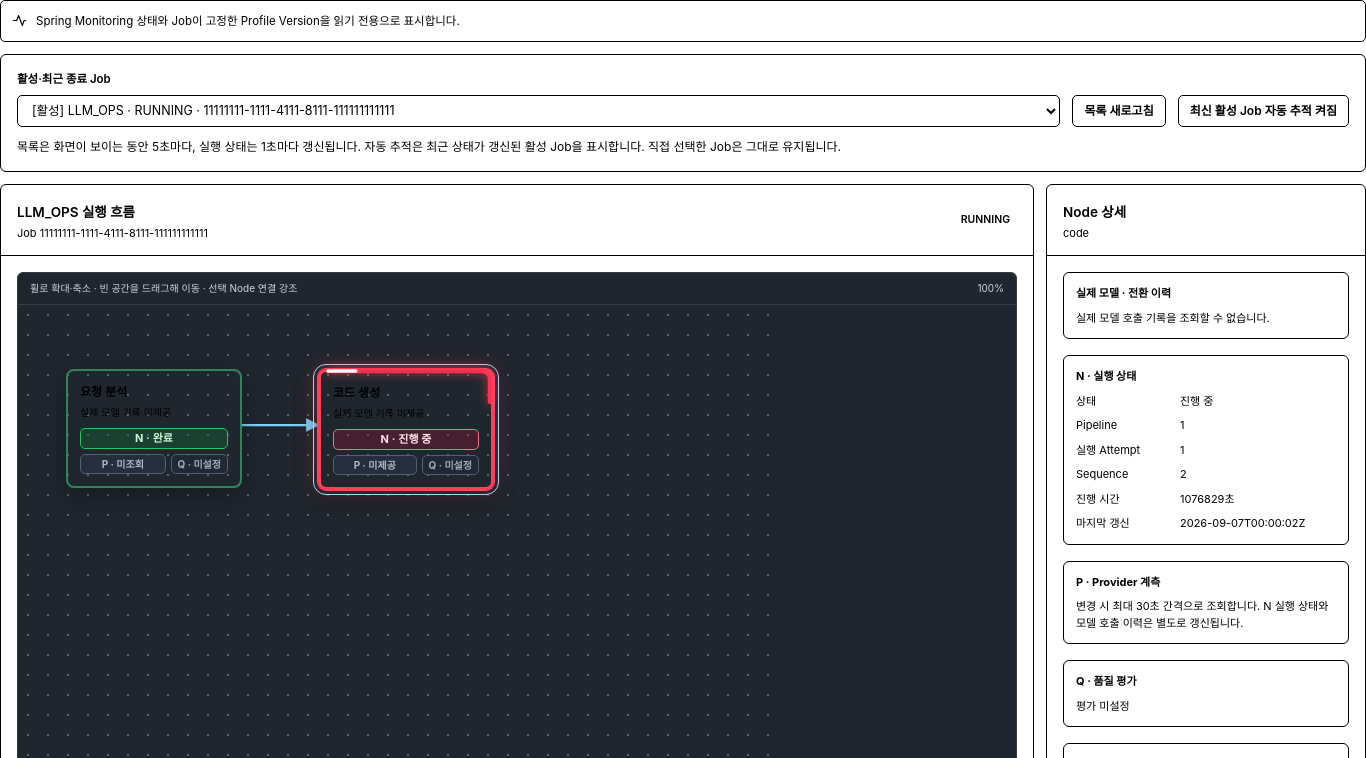
Scenario: manual list refresh preserves selection and layout and recovers from an error
Select "[활성] LLM_OPS · RUNNING · 11111111-1111-4111-8111-111111111111" in the dropdown named "실행 모니터링 Job" at (539, 111), box top-left (17, 95), bottom-right (1060, 127)
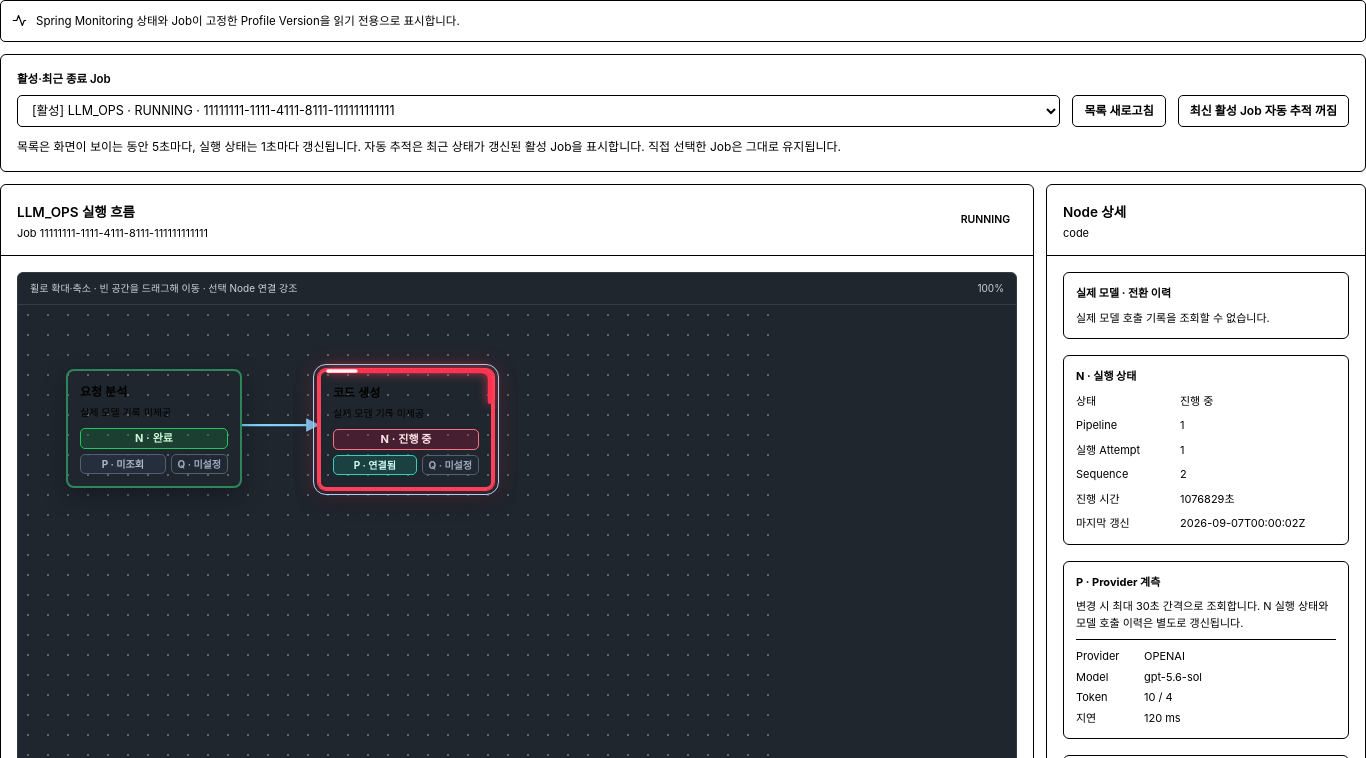
Click the button with aria-label "analyze Node" at (154, 429), box top-left (66, 369), bottom-right (242, 488)
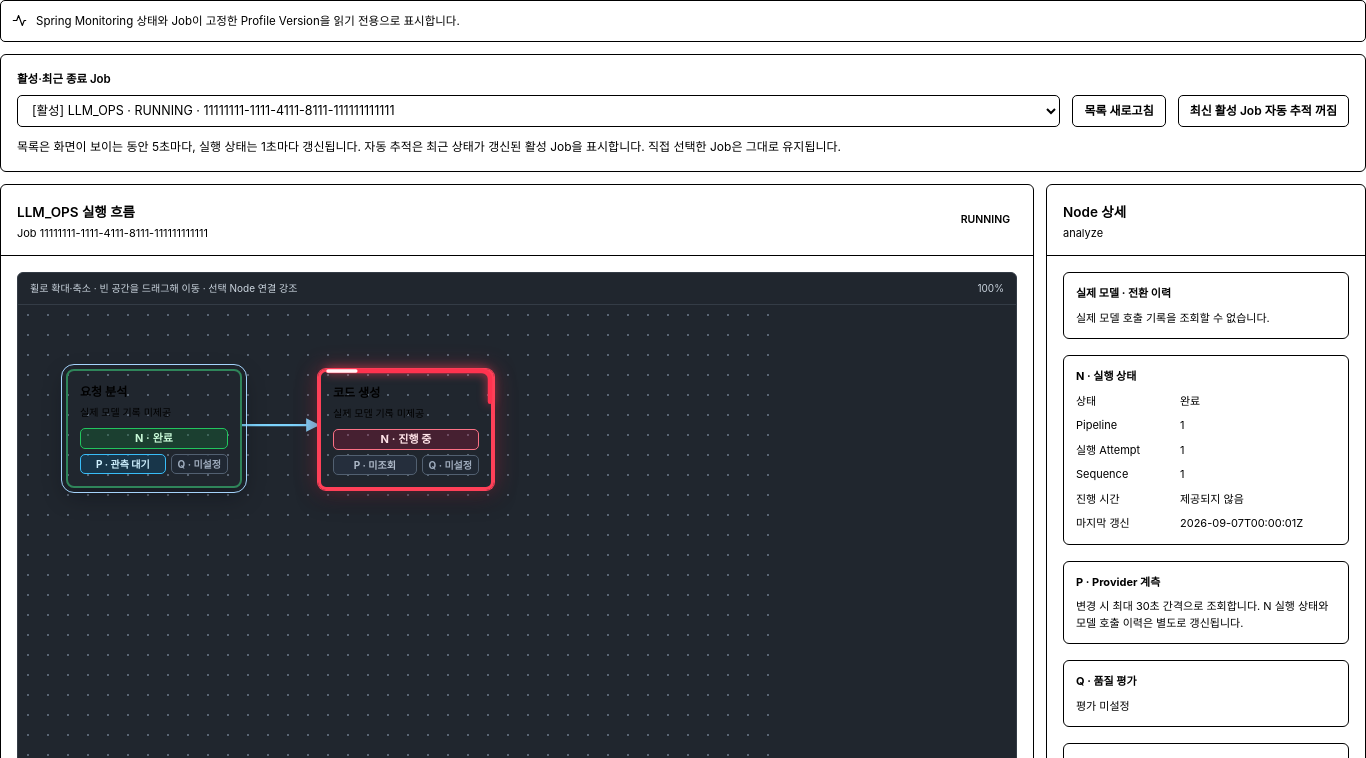
Click the button "목록 새로고침" at (1119, 111), box top-left (1072, 95), bottom-right (1166, 127)
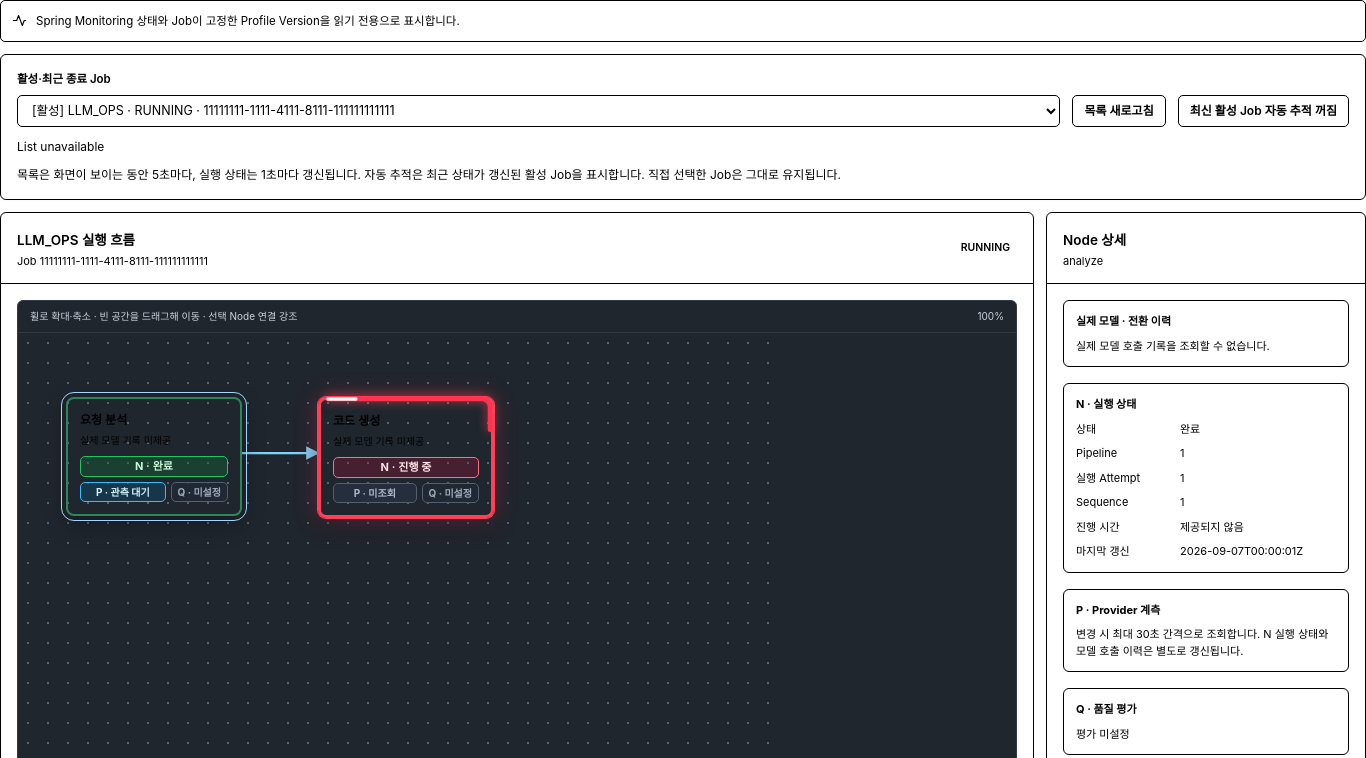
Now the message reads "List unavailable", box top-left (17, 139), bottom-right (104, 154)
Click the button "목록 새로고침" at (1119, 111), box top-left (1072, 95), bottom-right (1166, 127)
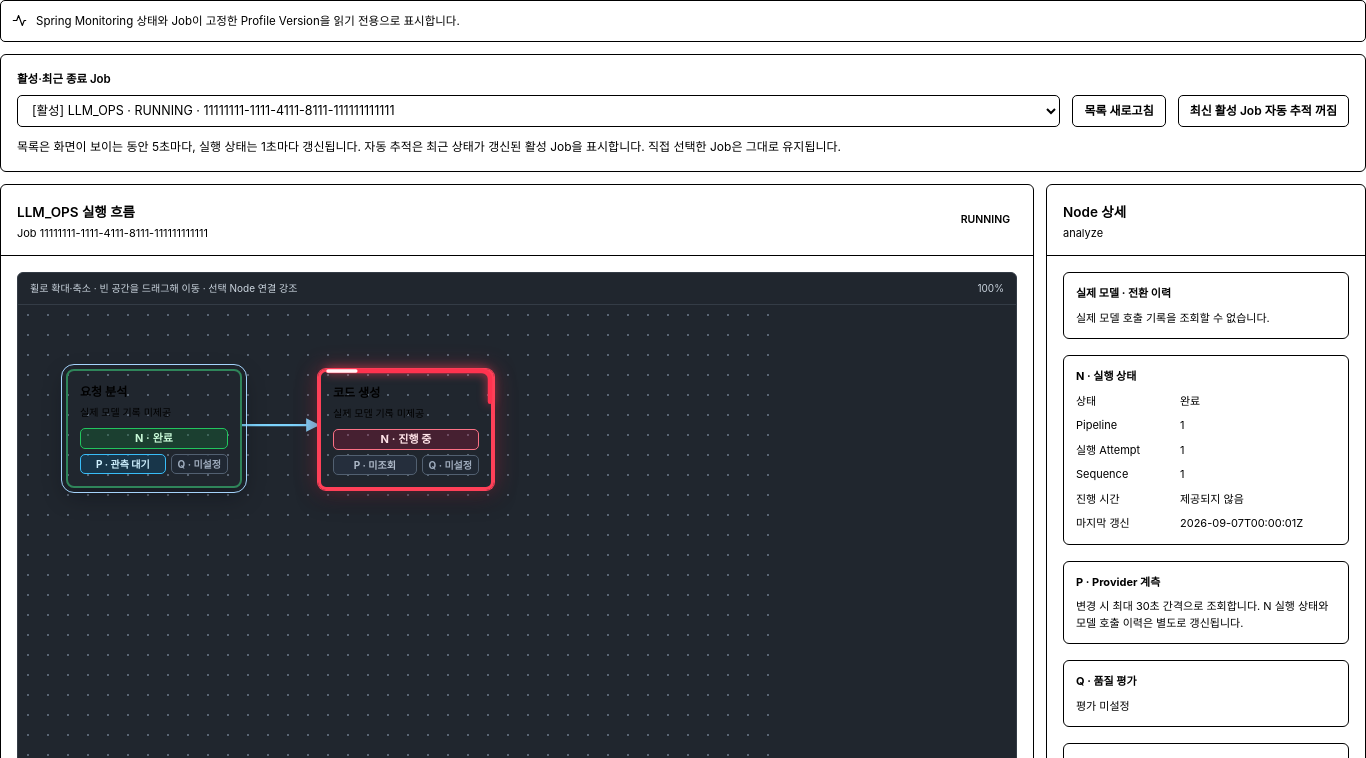
Now the message "List unavailable" is gone
